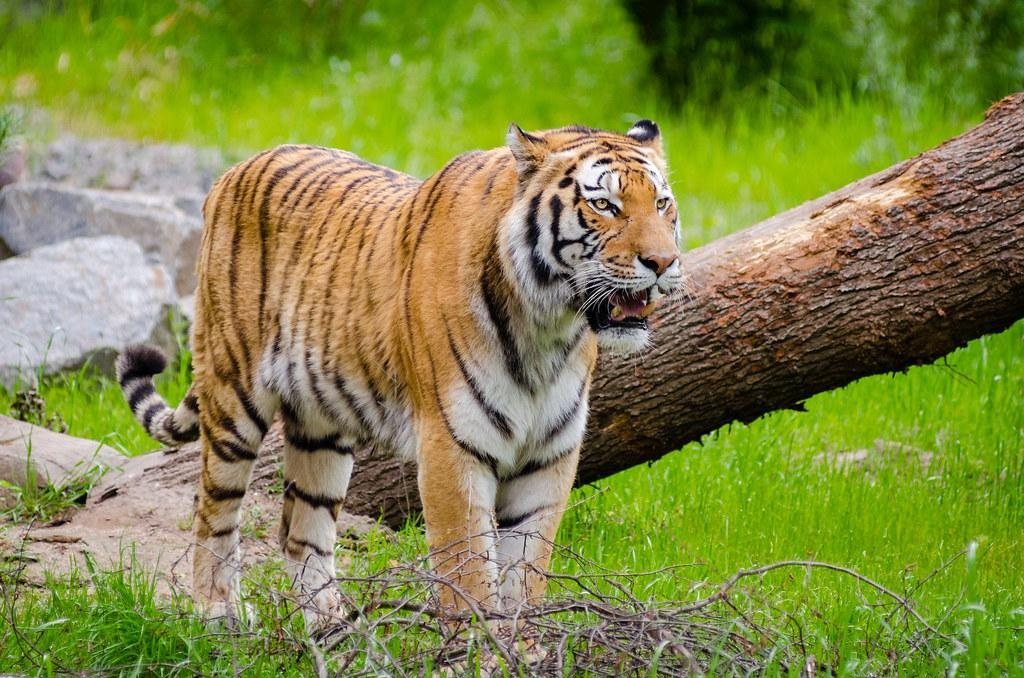tiger: (113, 118, 696, 671)
